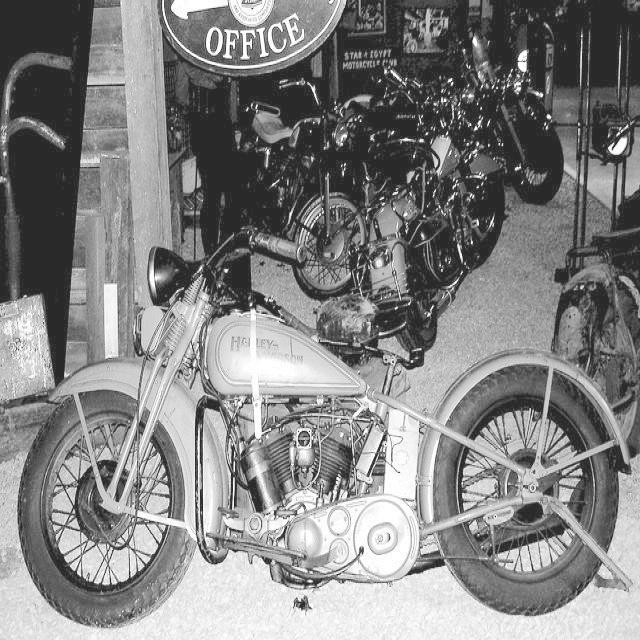Motorcycle: (17, 182, 623, 640), (227, 68, 394, 331), (358, 116, 512, 350), (461, 35, 572, 224)
